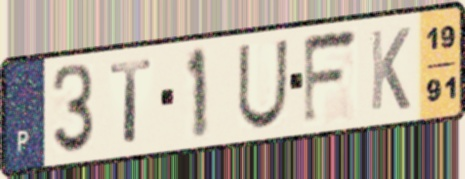1: (181, 44, 212, 144)
3: (48, 62, 97, 157)
F: (301, 25, 362, 130)
K: (368, 24, 413, 114)
T: (107, 56, 155, 147)
U: (235, 36, 291, 133)
